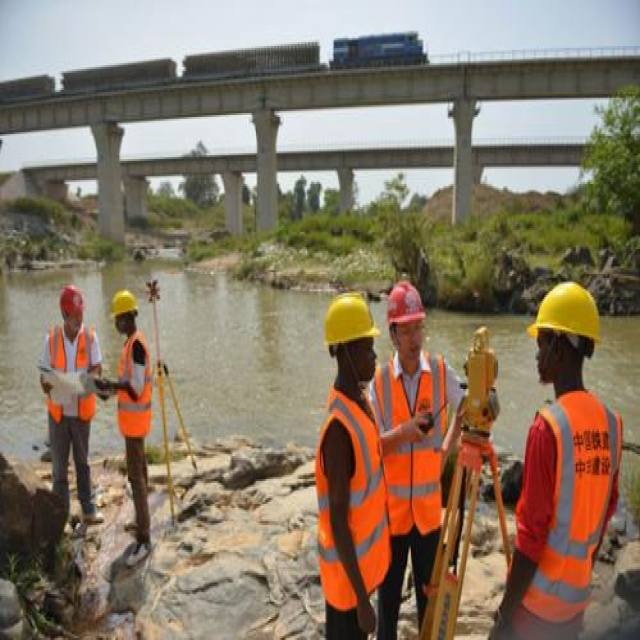Helmet: (519, 272, 609, 393), (316, 283, 387, 396), (375, 270, 433, 364), (51, 280, 93, 350), (106, 286, 146, 345)
Reflective vest: (519, 386, 621, 631), (313, 383, 395, 624), (378, 347, 453, 543), (39, 323, 103, 423), (116, 329, 153, 438)
